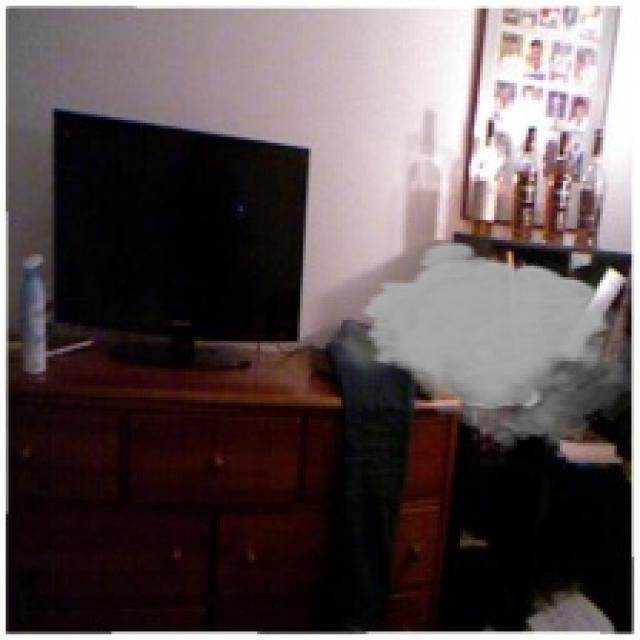smoke: (357, 240, 632, 454)
